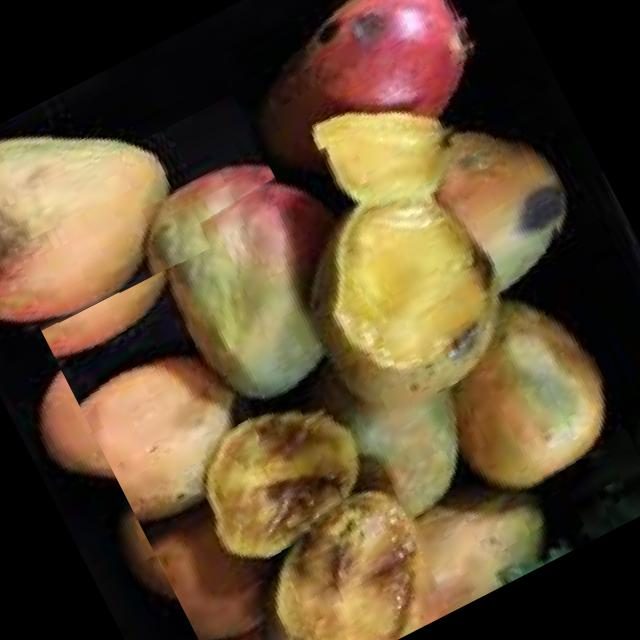Organic: (18, 52, 640, 640), (0, 68, 220, 363), (211, 0, 504, 210)
